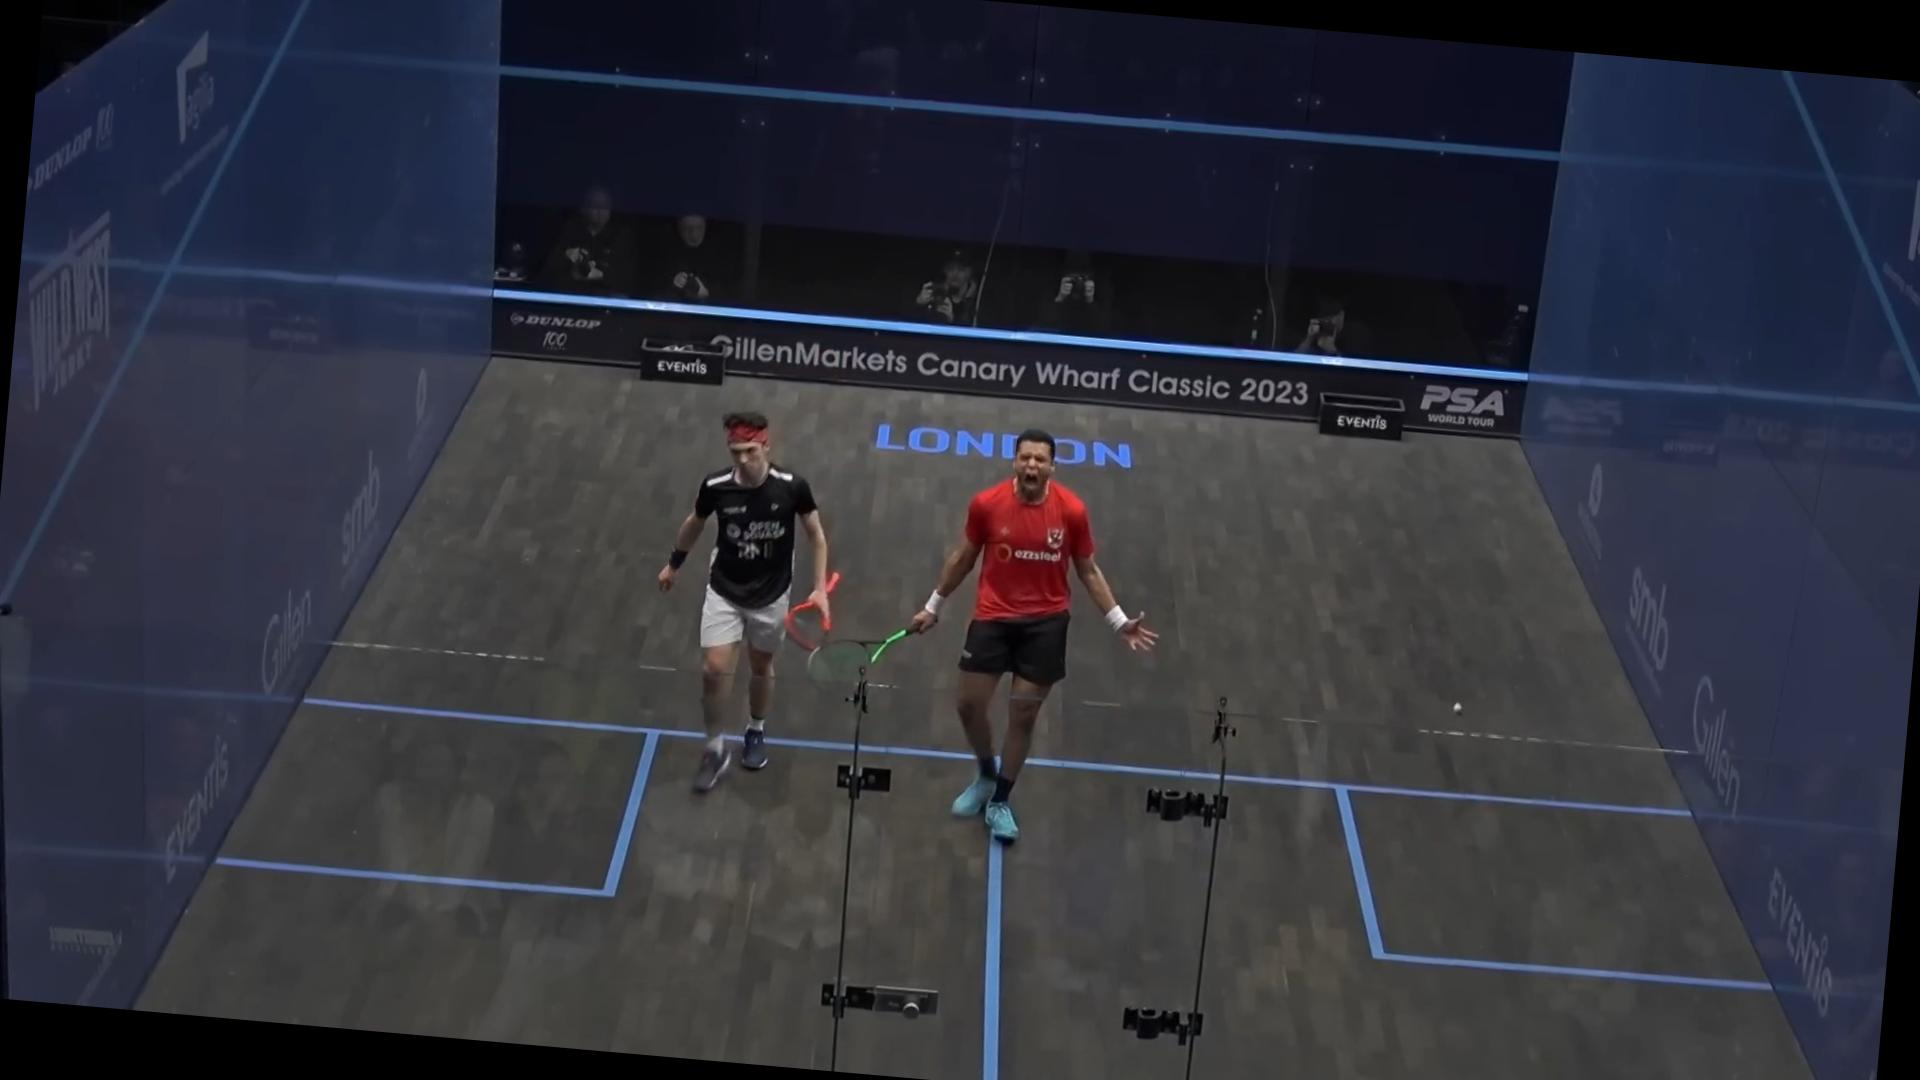Racket: (798, 613, 907, 708), (781, 555, 857, 658)
